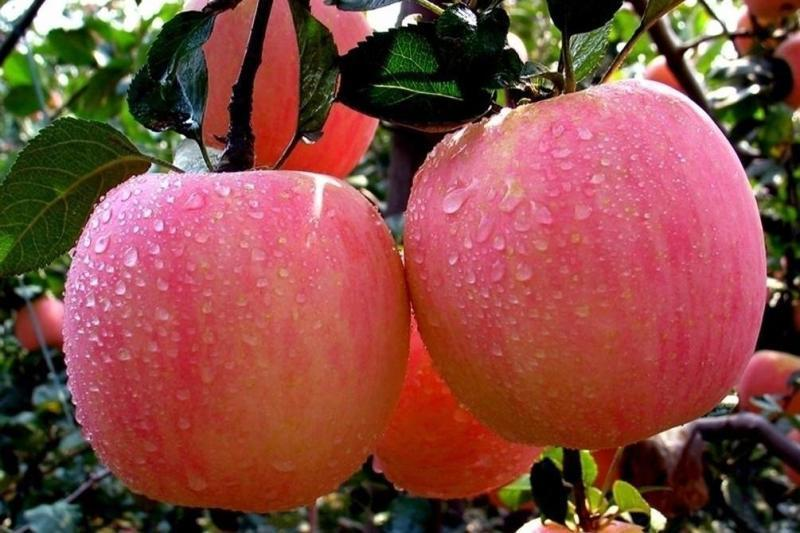apple: (401, 79, 769, 448), (65, 168, 417, 509)
